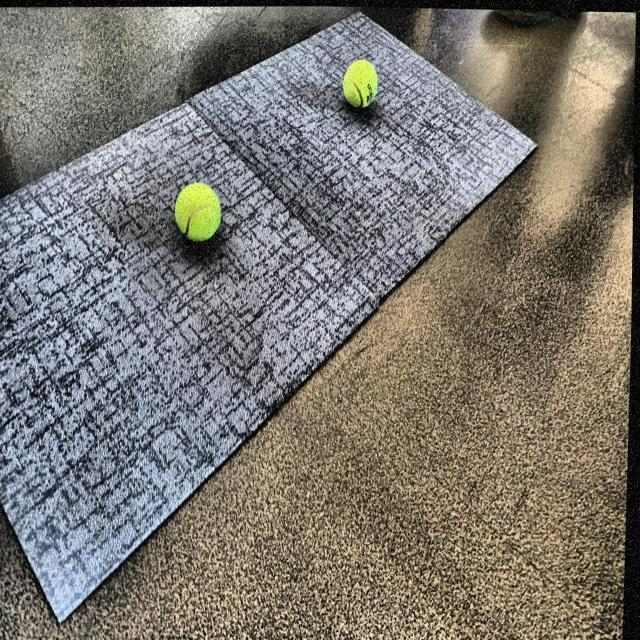tennis-ball: (175, 180, 227, 249), (342, 58, 381, 111)
